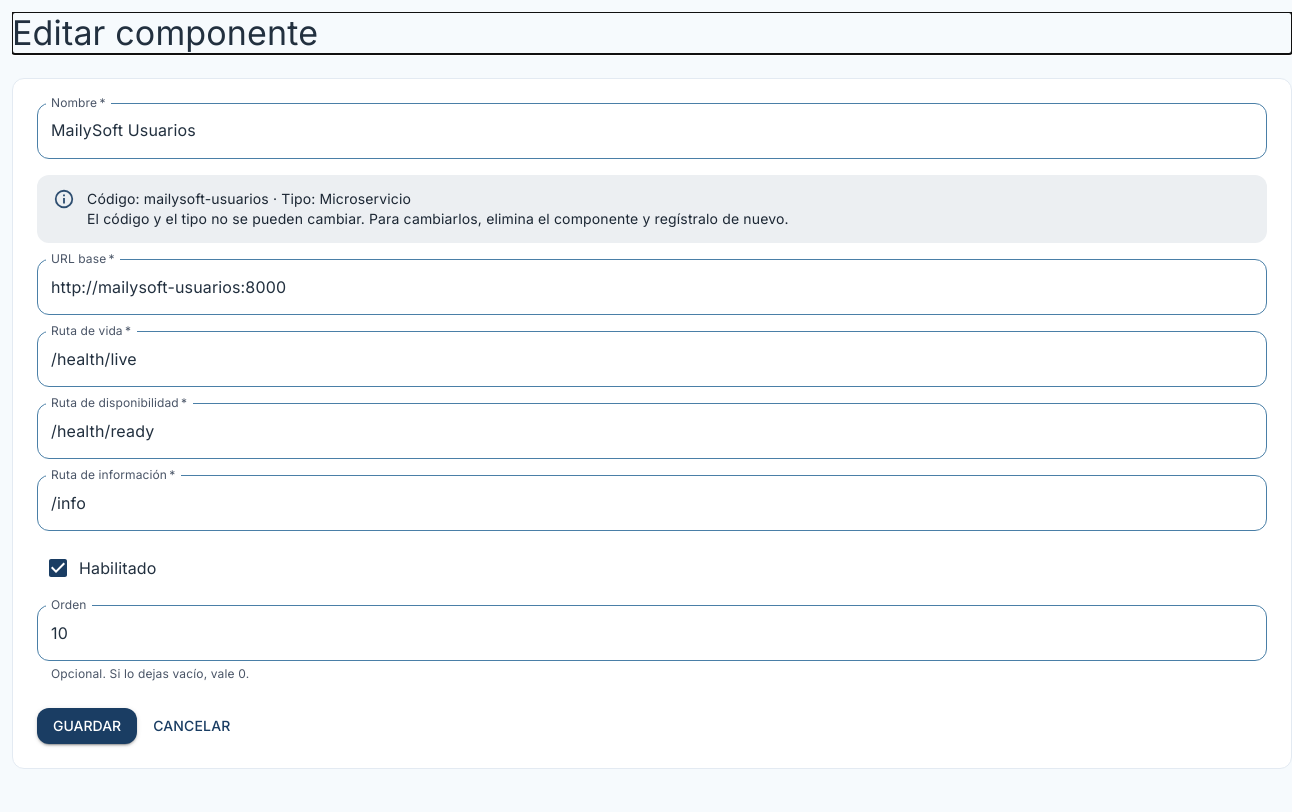
Test case: MonitoredComponentEditPage › says the component no longer exists and goes back to the list when another person deleted it
Replace the text in the field labelled "Nombre *" with "Usuarios". click: (652, 131)
box: [37,103,1267,159]
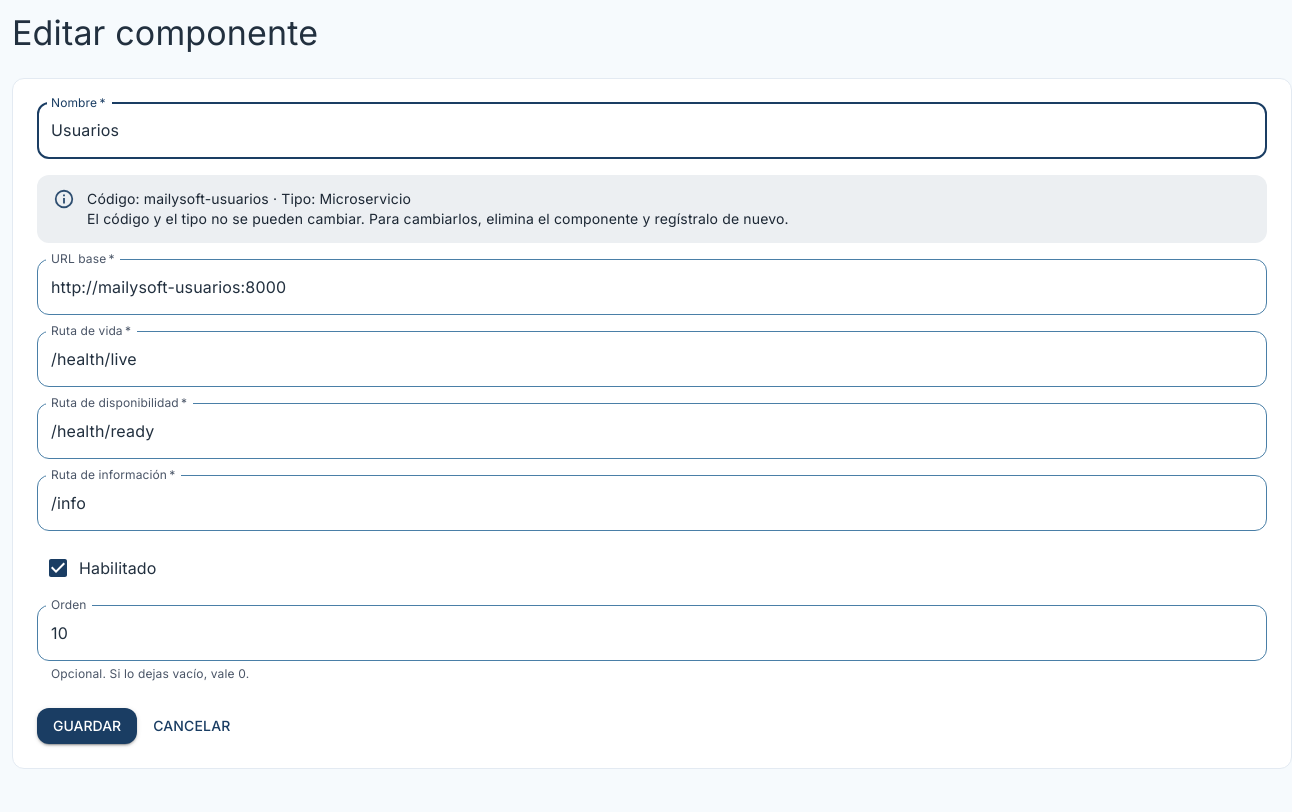
Click the button "Guardar". click: (87, 726)
box: [37,708,137,744]
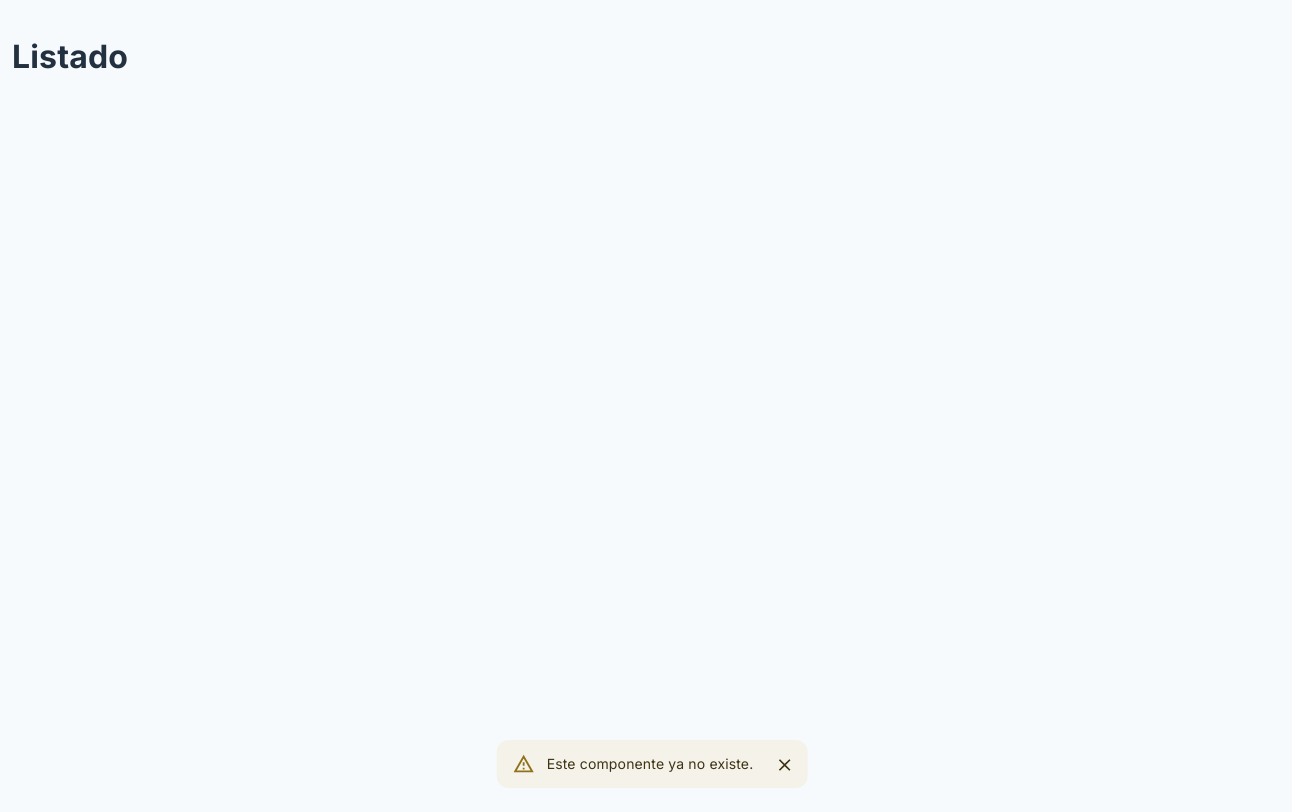
Check: the heading "Listado" is shown, box [12,37,128,76]
Check: the text "Este componente ya no existe." is shown, box [547,755,753,772]
